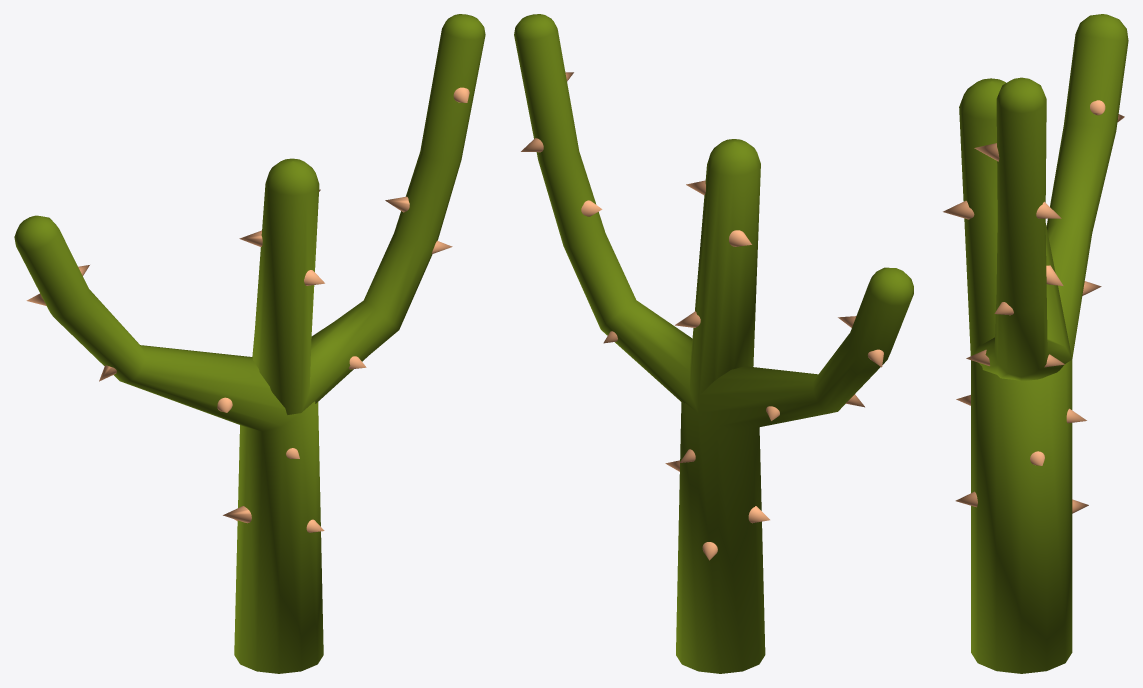
The model's file is cactus1.fbx.
3 views of the same model, side by side, from view 1: azimuth 30°, elevation 25°; view 2: azimuth 150°, elevation 25°; view 3: azimuth 270°, elevation 25° (orthographic). The views are drawn at different scales.
Visible parts, largest first — view 1: cacto; view 2: cacto; view 3: cacto.
Part boxes in pixels (x1=…): cacto: x1=14, y1=14, x2=485, y2=673; cacto: x1=514, y1=14, x2=913, y2=673; cacto: x1=943, y1=14, x2=1128, y2=673.
Bounding box in the file's own units: 31.2 × 41.18 × 10.32.
